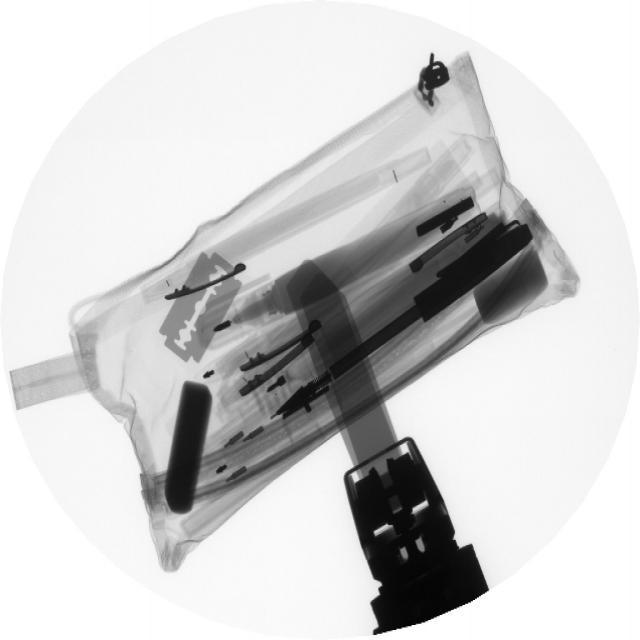BLADE: (156, 259, 245, 377)
